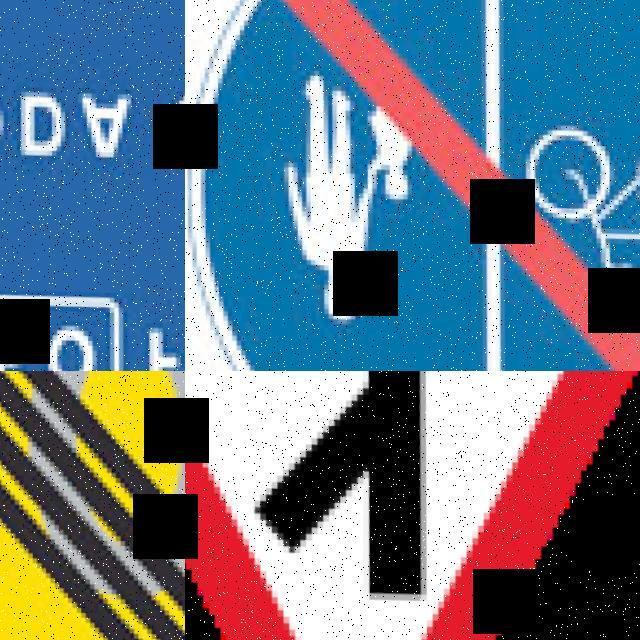124: (0, 371, 185, 640)
85: (0, 0, 185, 371)
Oblique side road junction: (185, 371, 640, 640)
no entry for bicycles and humans: (185, 0, 640, 371)
